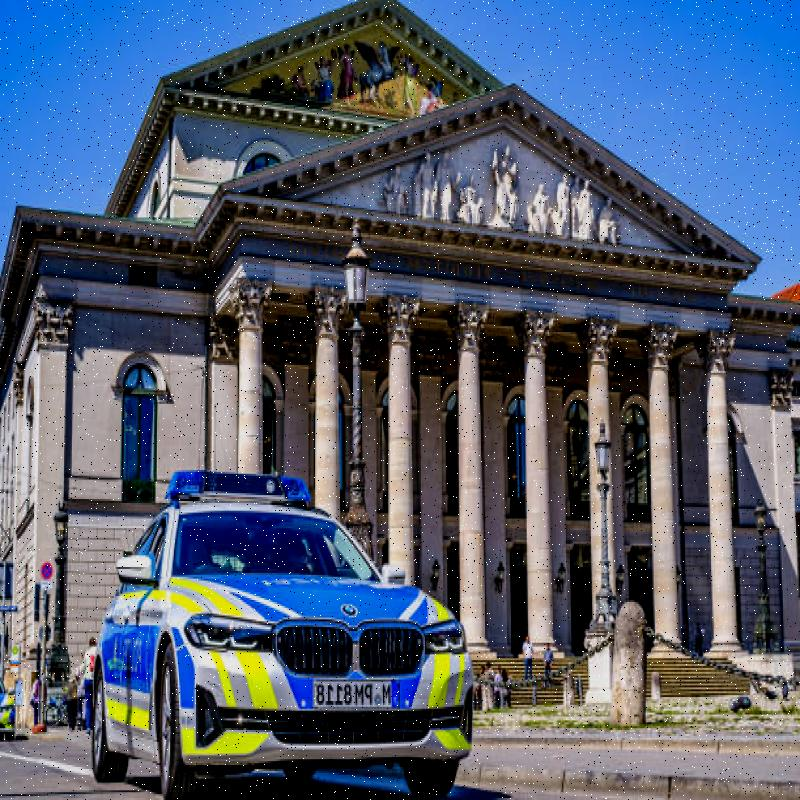AmbulanceSiren: (157, 456, 320, 526)
